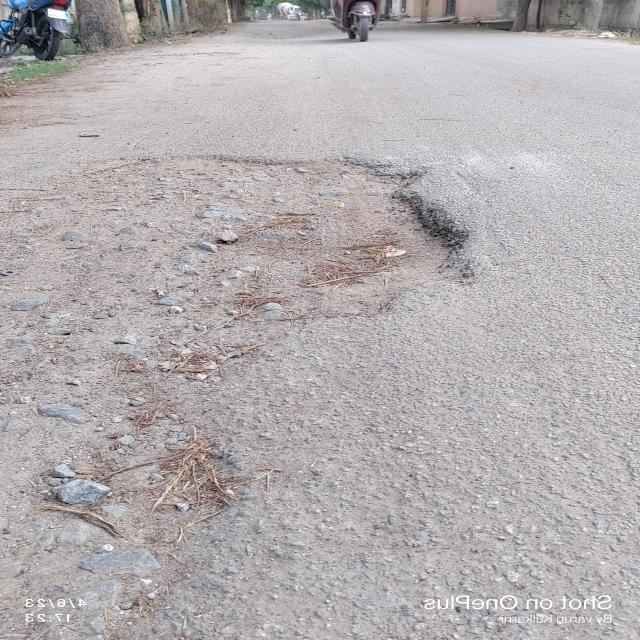potholes: (130, 156, 472, 298)
